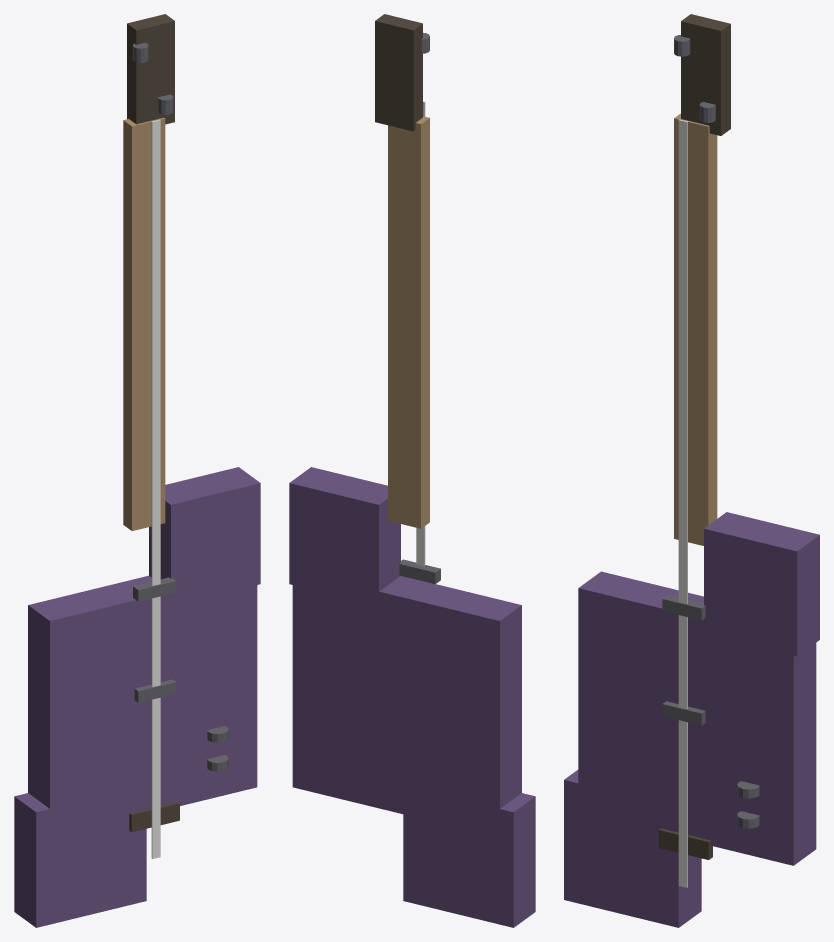
The model's file is bass.glb.
3 views of the same model, side by side, from view 1: azimuth 30°, elevation 25°; view 2: azimuth 150°, elevation 25°; view 3: azimuth 330°, elevation 25° (orthographic). The views are drawn at different scales.
Parts seen in each view (by area): view 1: bass; view 2: bass; view 3: bass.
Part boxes in pixels (box(x1,y1,x2,y2)): bass: box(14, 14, 260, 927); bass: box(289, 14, 535, 927); bass: box(564, 14, 819, 927).
Size of the model in its own units: 0.325 by 1.2 by 0.0735.
